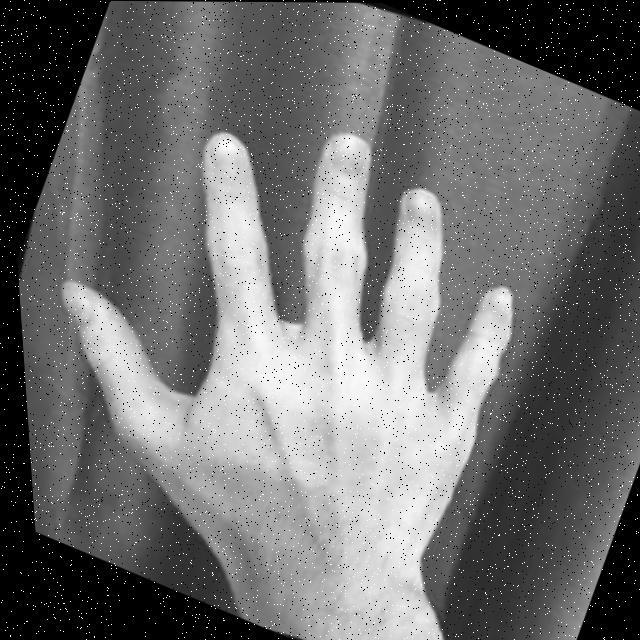no-gloves: (2, 39, 577, 618)
